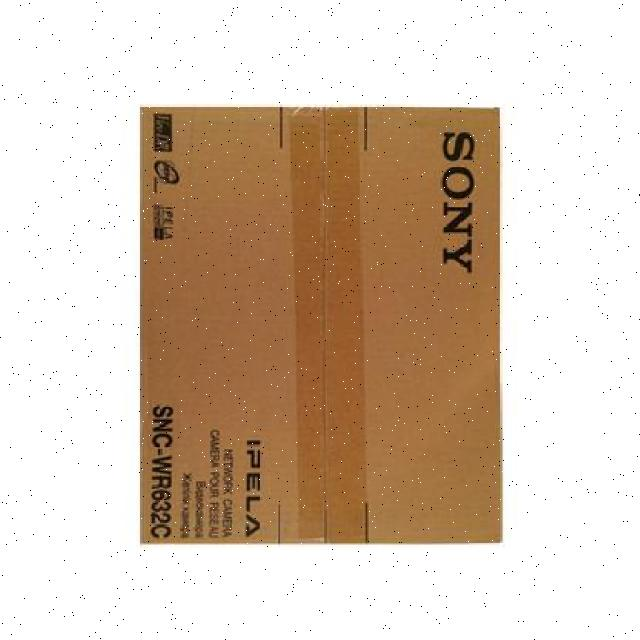normal: (130, 95, 504, 551)
